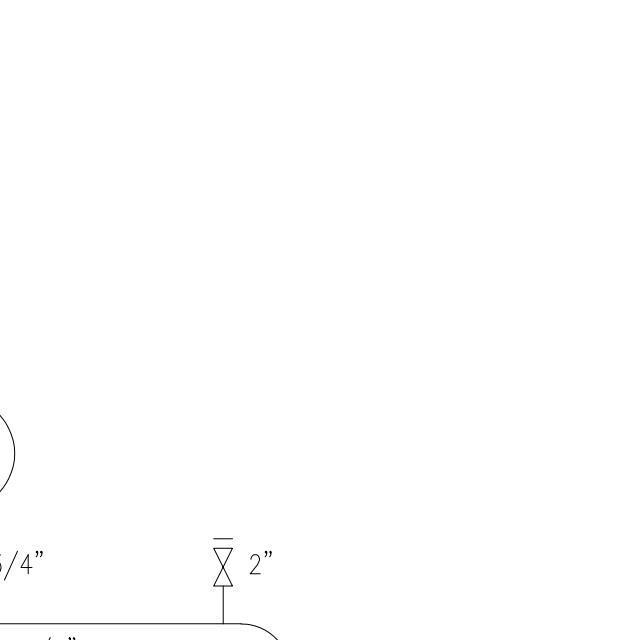GV: (209, 542, 236, 595)
